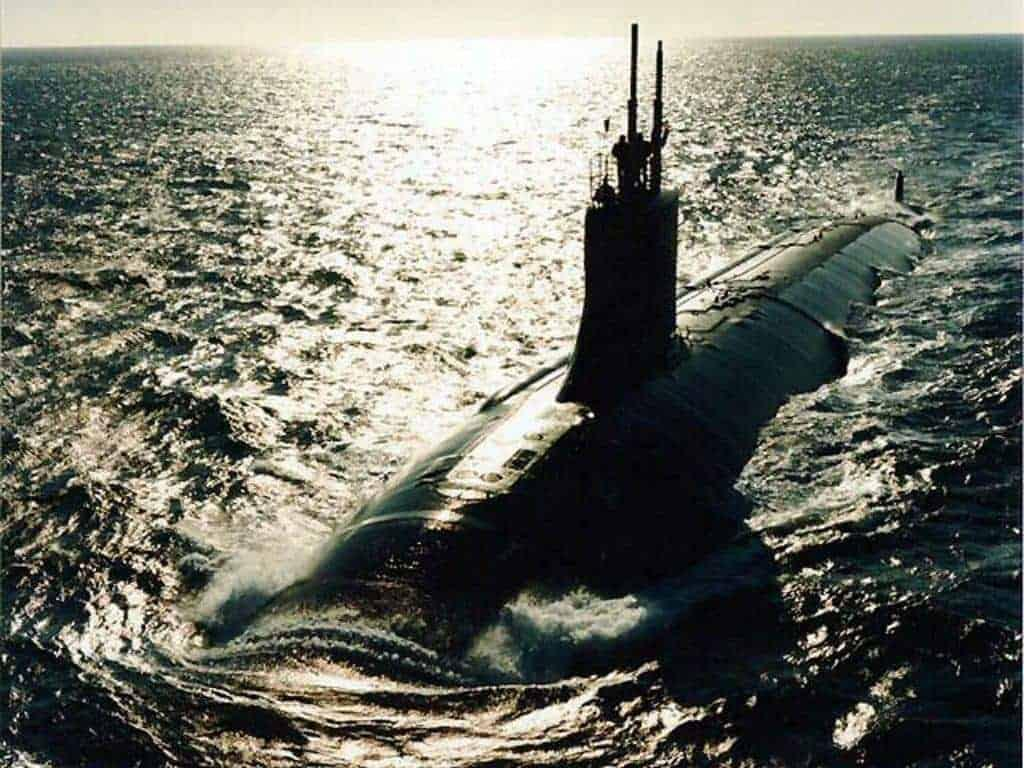Submarine: (164, 0, 956, 742)
